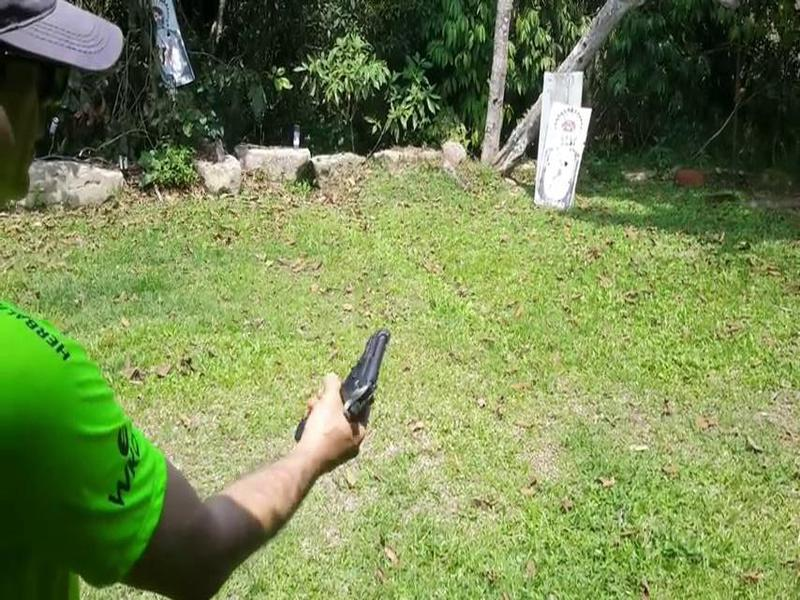Pistola: (319, 322, 406, 426)
